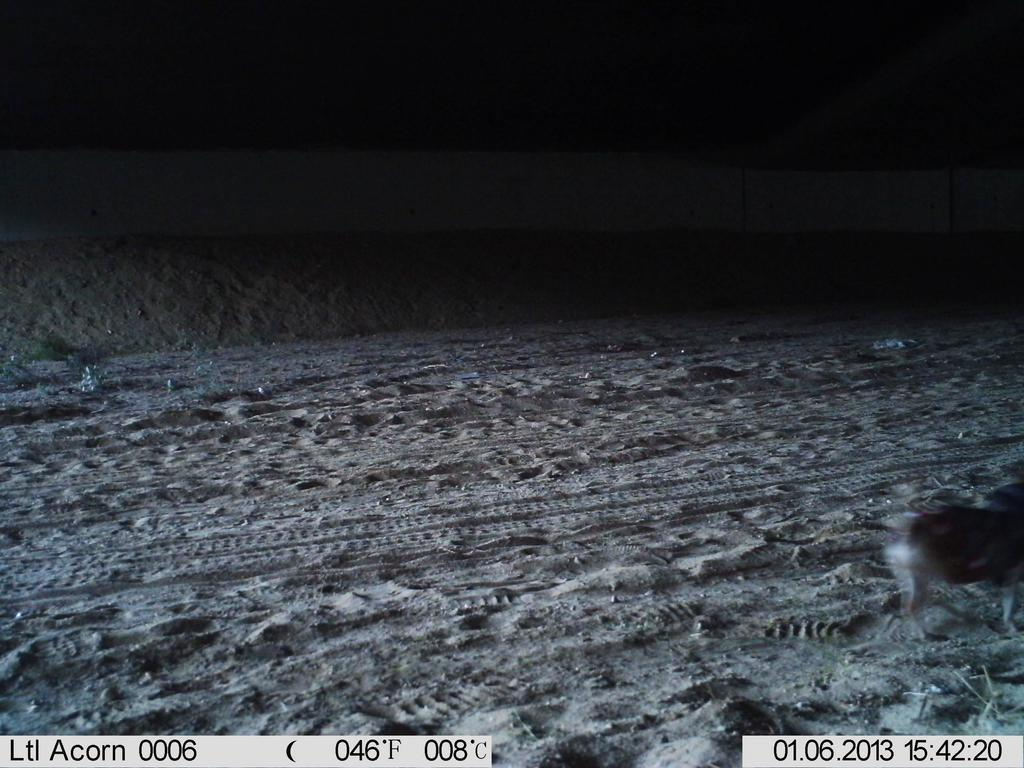dog: (862, 470, 1022, 647)
